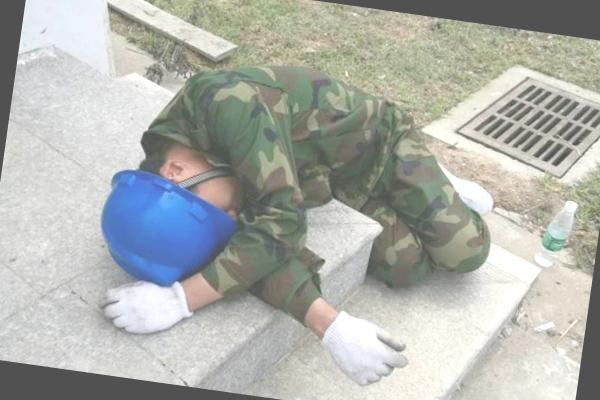helmet: (92, 165, 248, 294)
person: (79, 34, 520, 400)
